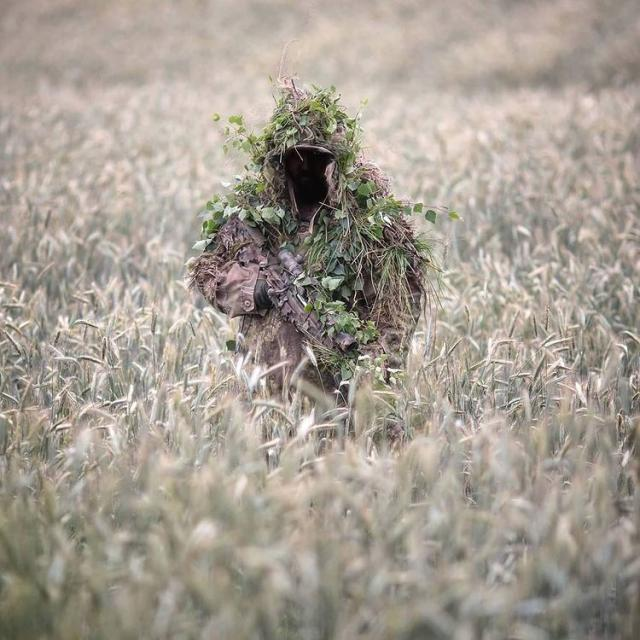Camouflage: (185, 77, 433, 467)
